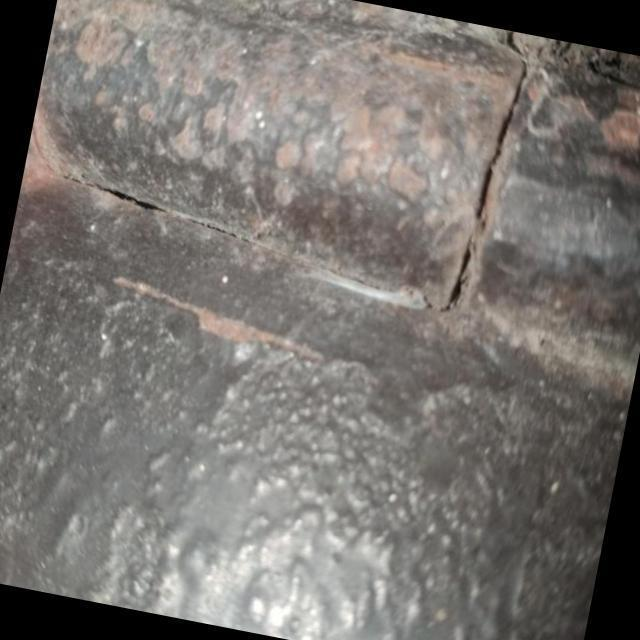defect: (431, 33, 528, 319), (53, 173, 169, 214), (186, 218, 256, 247)
